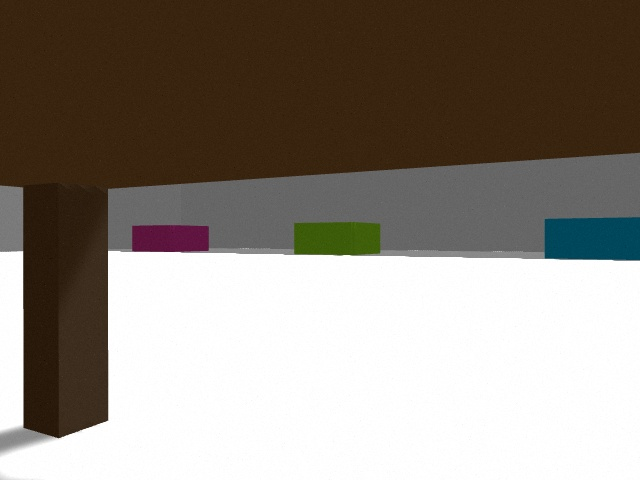blue_drop_zone: (545, 217, 640, 260)
green_drop_zone: (294, 222, 380, 255)
red_drop_zone: (132, 225, 209, 252)
